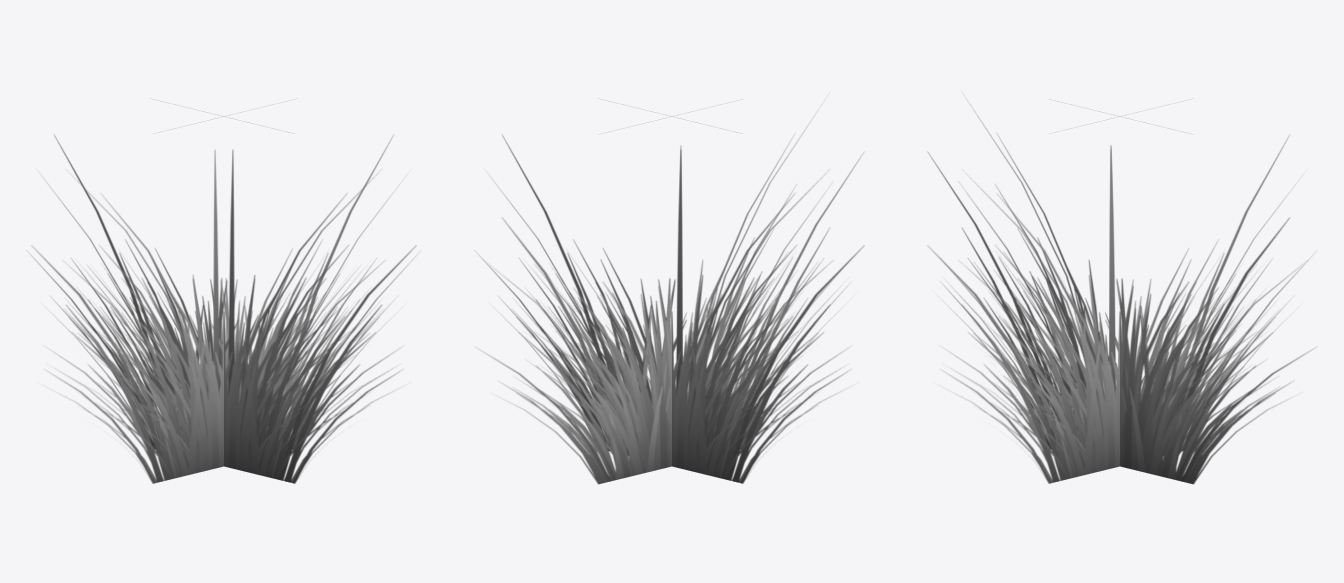
The model's file is Blade_Shade.glb.
The picture shows the model from 3 angles, left to right: view 1: azimuth 30°, elevation 25°; view 2: azimuth 150°, elevation 25°; view 3: azimuth 270°, elevation 25°; orthographic projection.
Visible parts, largest first — view 1: Blade_Shade; view 2: Blade_Shade; view 3: Blade_Shade.
Boxes of the visible parts, box(x1,y1,x2,y2) form: Blade_Shade: box(27, 116, 420, 483); Blade_Shade: box(475, 100, 864, 484); Blade_Shade: box(927, 100, 1316, 484).
Bounding box in the file's own units: 0.5053 × 0.4028 × 0.4376.
Materials: 1 (1 with a texture image).
